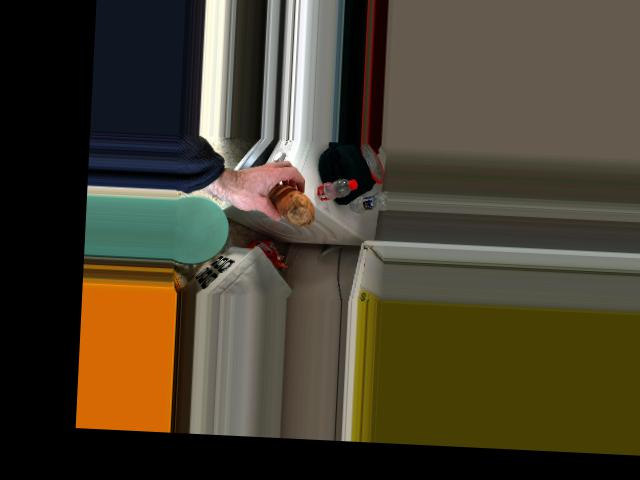sweet_potato: (267, 184, 317, 225)
